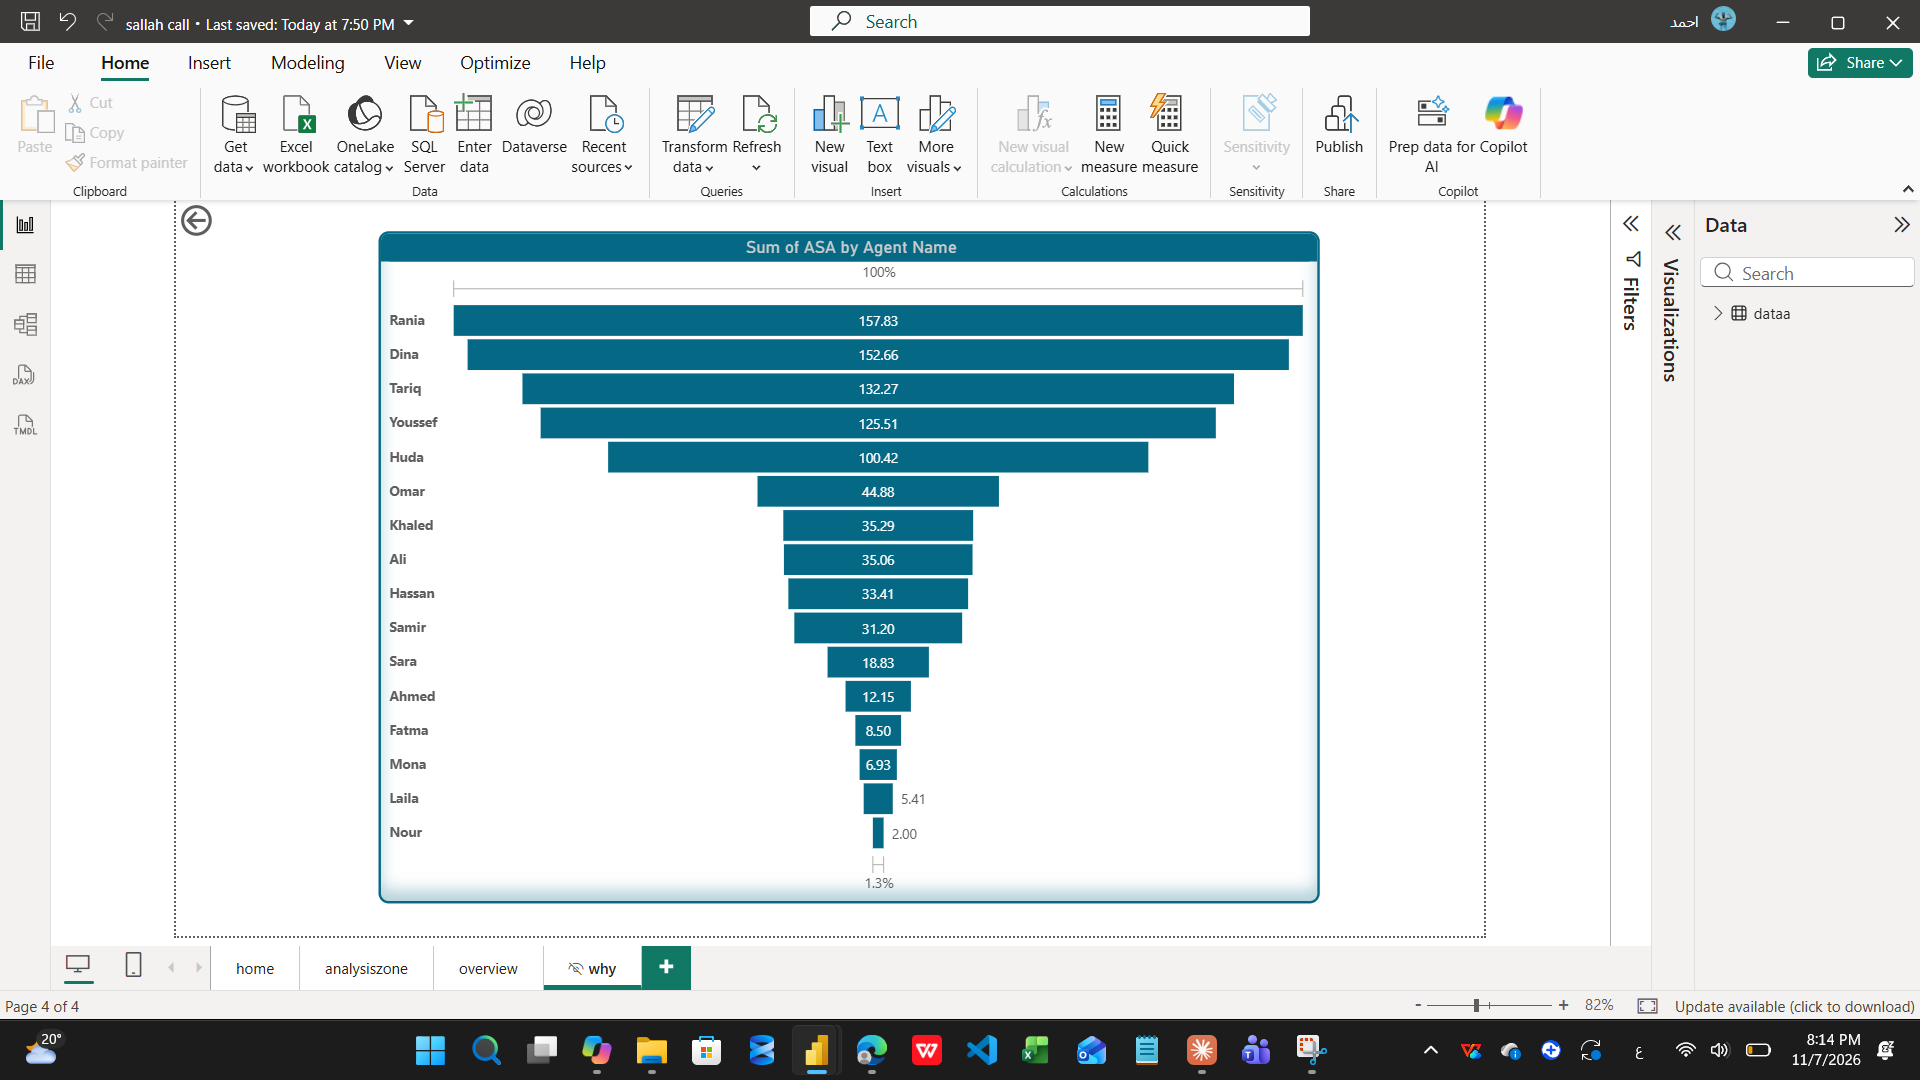

This screenshot's page, from the dashboard's own definition file:
{"tool":"powerbi","page":{"name":"why","canvas":[1280,720],"ordinal":3},"visuals":[{"type":"actionButton","box":[0,0,100,40],"z":0},{"type":"funnel","fields":{"Y":["Sum(dataa.ASA)"],"Category":["dataa.Agent Name"]},"box":[214.5,40.3,637.1,562.9],"z":1000}]}

Visuals, with their boxes on the page's 1280x720 design canvas (x1, y1, x2, y2). These are canvas units, not pixel positions in the 1920x1080 screenshot, which may show the page scaled, cropped or inside an application window:
actionButton: (x1=0, y1=0, x2=100, y2=40)
funnel - Sum(dataa.ASA) x dataa.Agent Name: (x1=214, y1=40, x2=852, y2=603)
